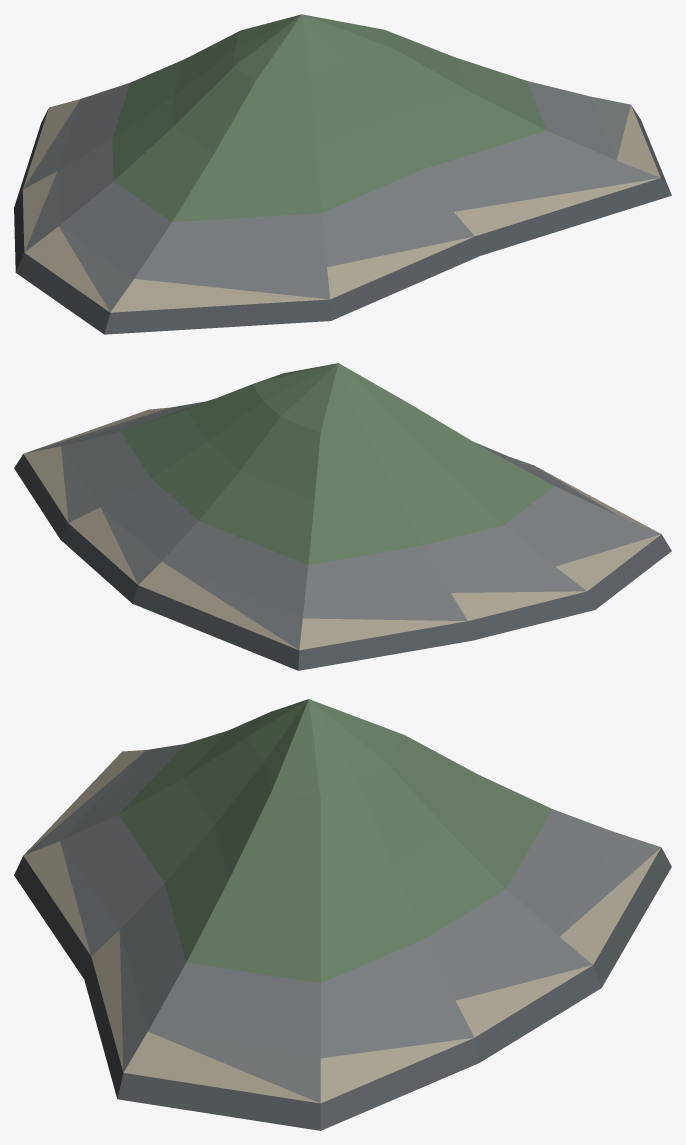
Rendered from freeport_lod1.glb.
3 views of the same model, one above another, from view 1: azimuth 30°, elevation 25°; view 2: azimuth 150°, elevation 25°; view 3: azimuth 270°, elevation 25° (orthographic). The views are drawn at different scales.
Size of the model in its own units: 2.6 by 0.8082 by 1.98.
